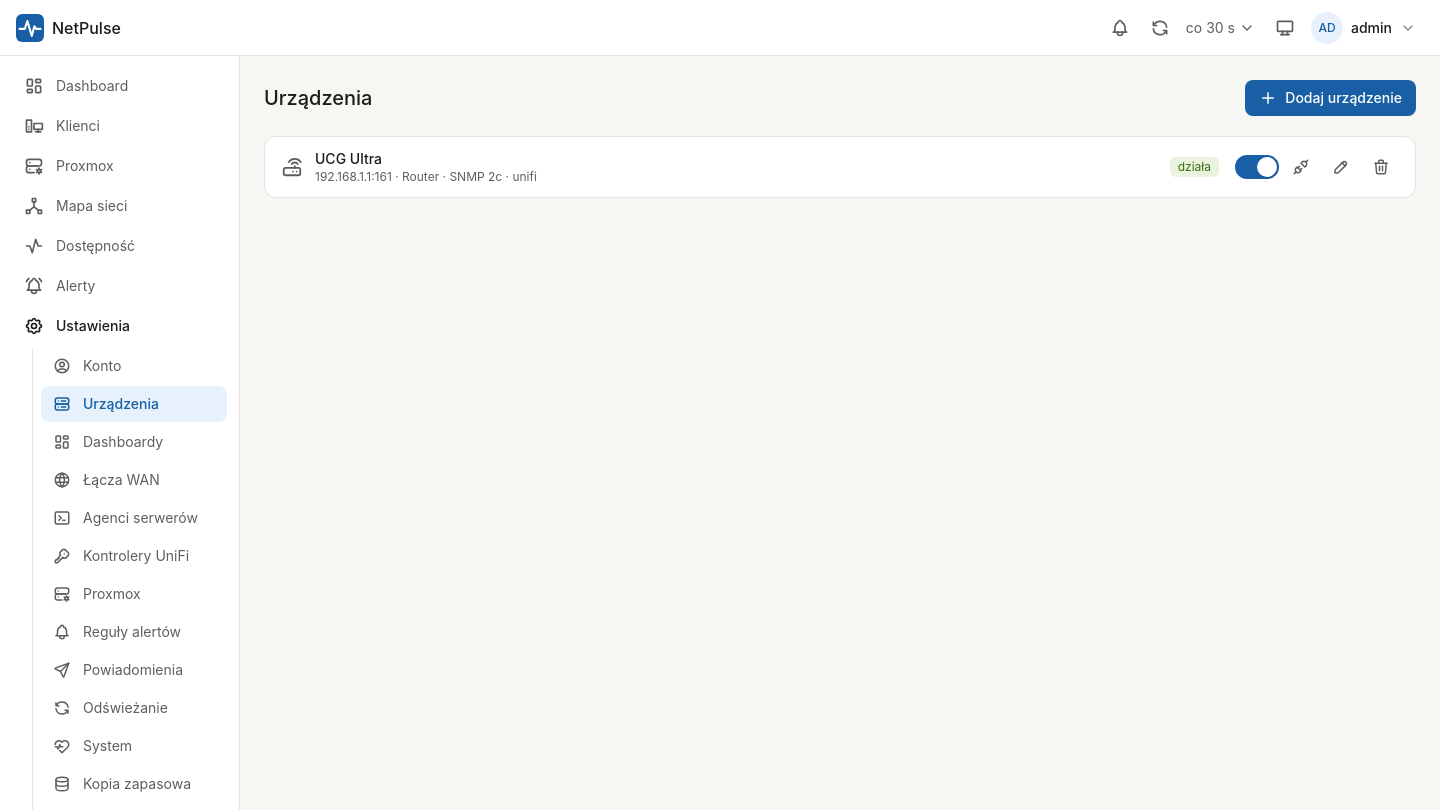
dodawanie serwera Linux › wybór sterownika Serwer Linux pokazuje podpowiedź o snmpd
Click the button "Dodaj urządzenie".
click(1331, 98)  # box [1245,80,1416,116]
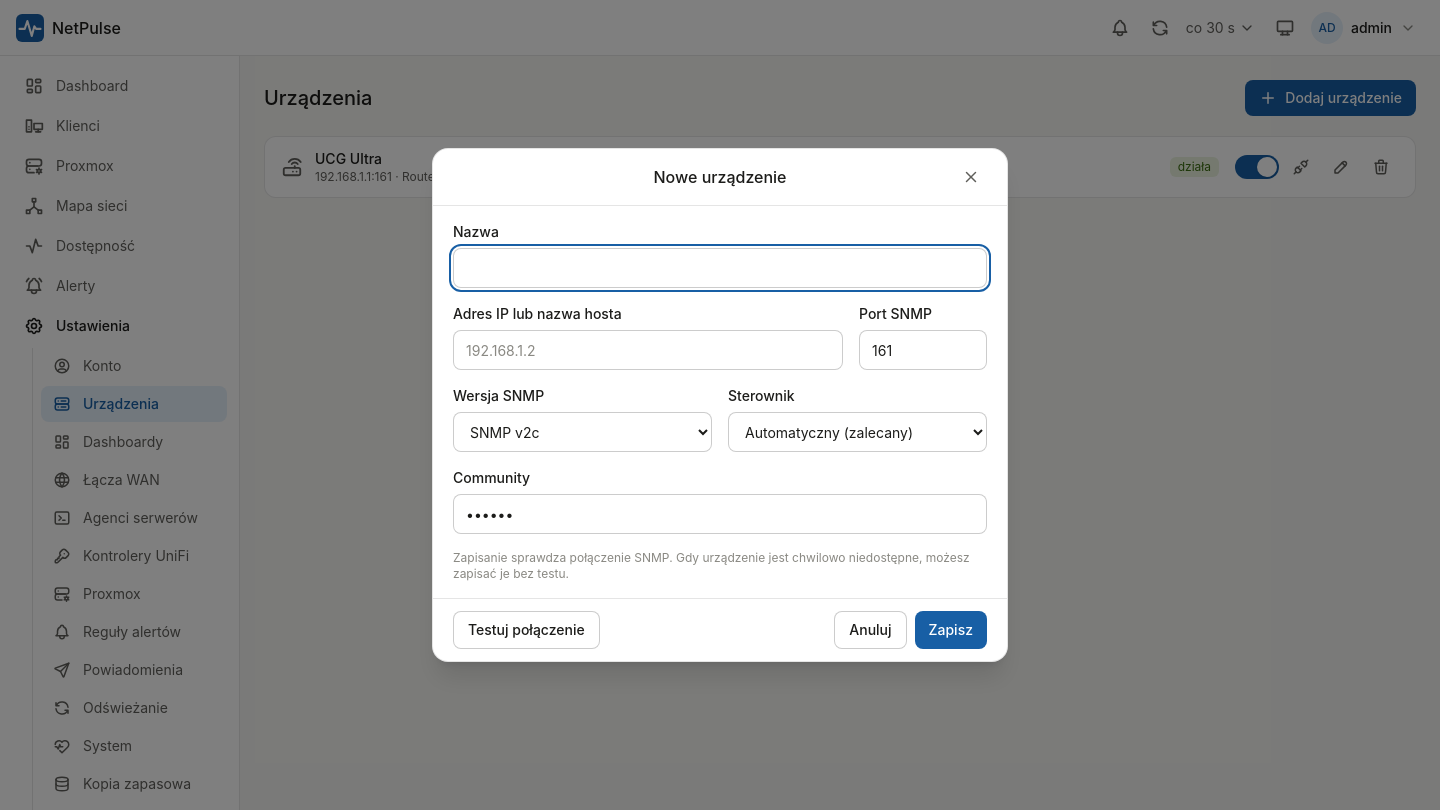
Select "Serwer Linux (snmpd)" in the dropdown labelled "Sterownik" at (858, 432), box [728,412,987,452]
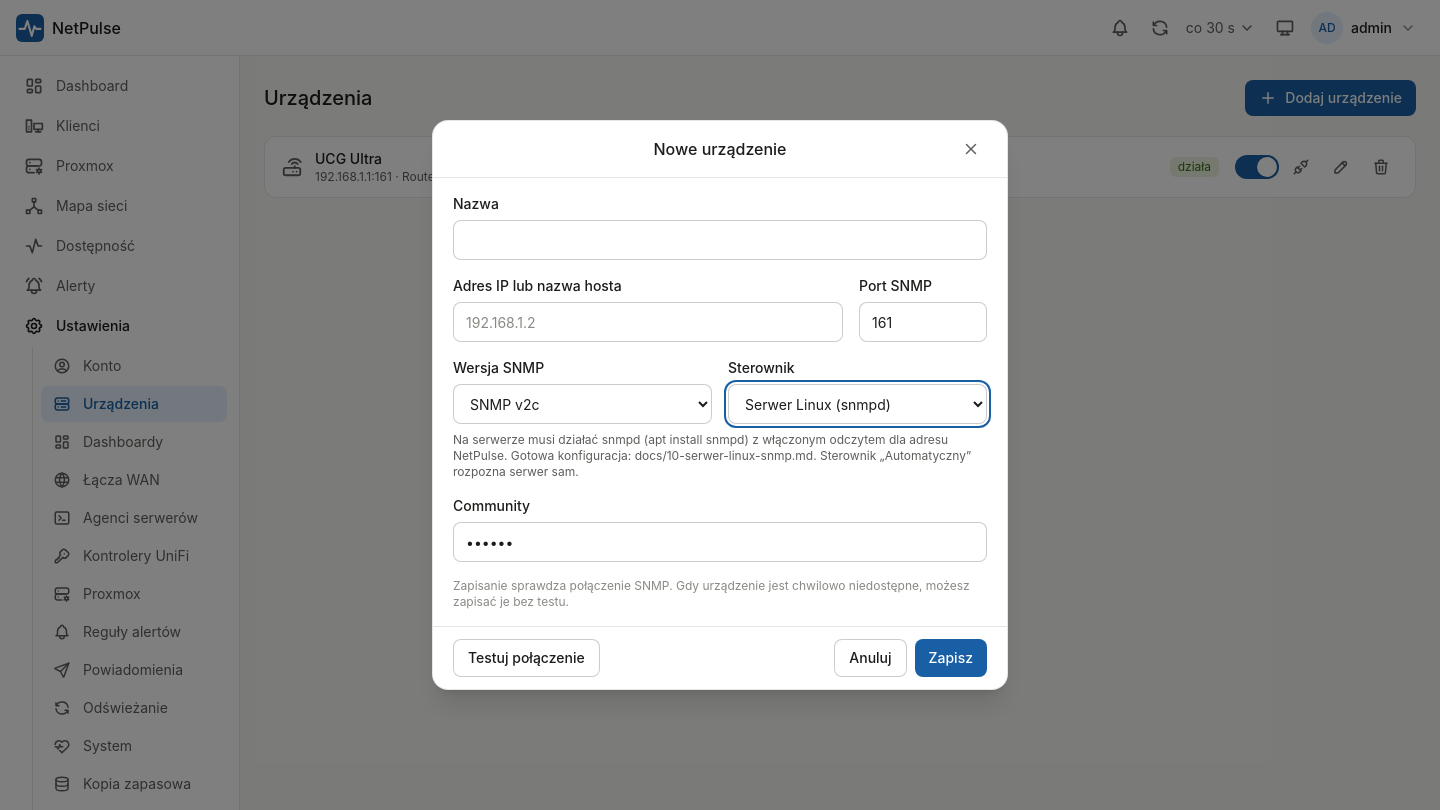
Expected: the text "apt install snmpd" is shown, [453,432,971,479]
